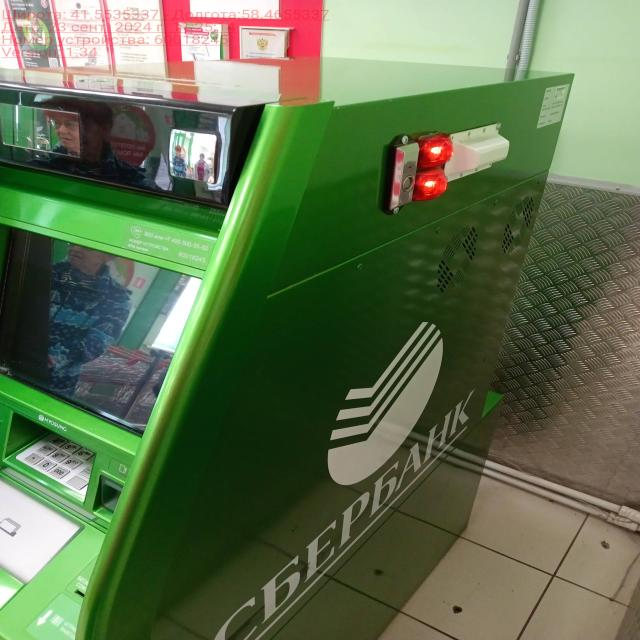bank: (0, 56, 578, 639)
